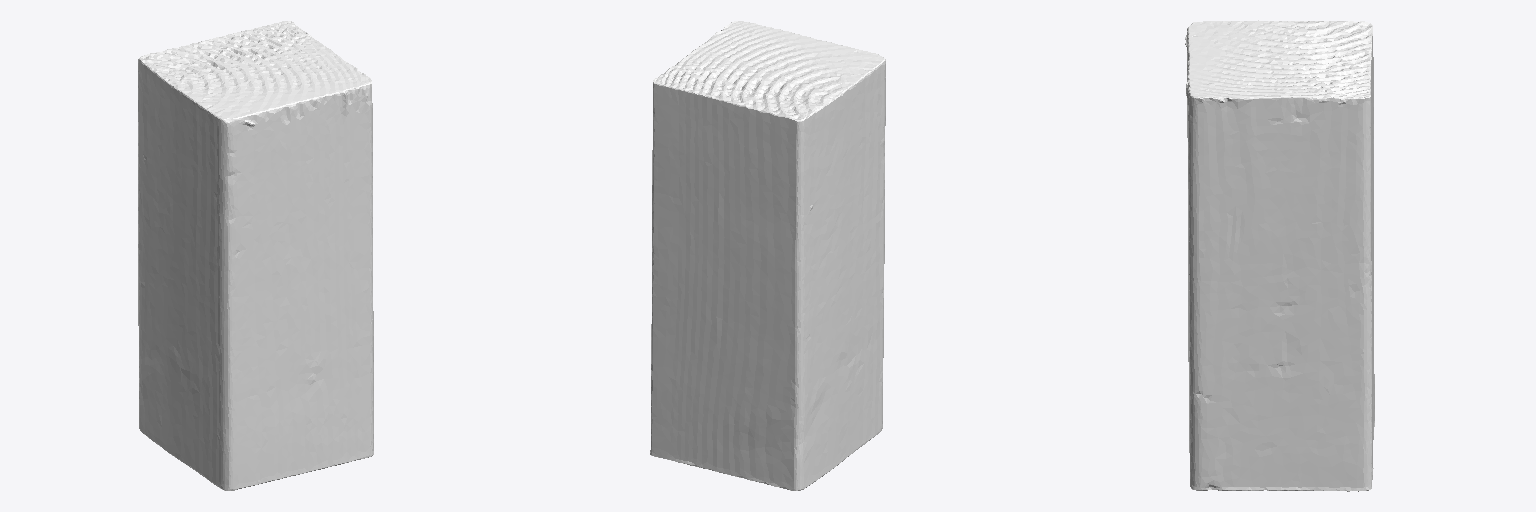
The robot description file, URDF, robot "plum":
<robot name="plum">
	<link name="base_link">
		<visual>
			<origin xyz="0.007742611303817823 -0.01949223166858234 -0.023720337525360752" rpy="0.0 0.0 0.0" />
			<geometry>
				<mesh filename="018_plum/google_16k/textured.obj" scale="1 1 1" />
			</geometry>
			<material name="texture">
				<color rgba="1.0 1.0 1.0 1.0" />
			</material>
		</visual>
		<collision>
			<origin xyz="0.007742611303817823 -0.01949223166858234 -0.023720337525360752" rpy="0.0 0.0 0.0" />
			<geometry>
				<mesh filename="018_plum/google_16k/textured_vhacd.obj" scale="1 1 1" />
			</geometry>
		</collision>
		<inertial>
			<mass value="0.025" />
			<inertia ixx="1e-3" ixy="0.0" ixz="0.0" iyy="1e-3" iyz="0.0" izz="1e-3" />
		</inertial>
	</link>
</robot>

--- Render facts (derived) ---
Views: 3 orthographic renders of the robot side by side, from view 1: azimuth 30°, elevation 25°; view 2: azimuth 150°, elevation 25°; view 3: azimuth 270°, elevation 25°.
Robot: plum — 1 links, 0 joints (none); root link base_link; default pose: all joints at 0.
Visible links, largest first — view 1: base_link; view 2: base_link; view 3: base_link.
Boxes of the visible links, x1,y1,x2,y2 form: base_link: (138, 21, 373, 490); base_link: (650, 21, 885, 490); base_link: (1185, 20, 1374, 491).
Size in the robot's own frame: 0.0906 by 0.0899 by 0.206 metres.
Meshes: 1 distinct files referenced, 1 mesh visuals loaded (1 OBJ).